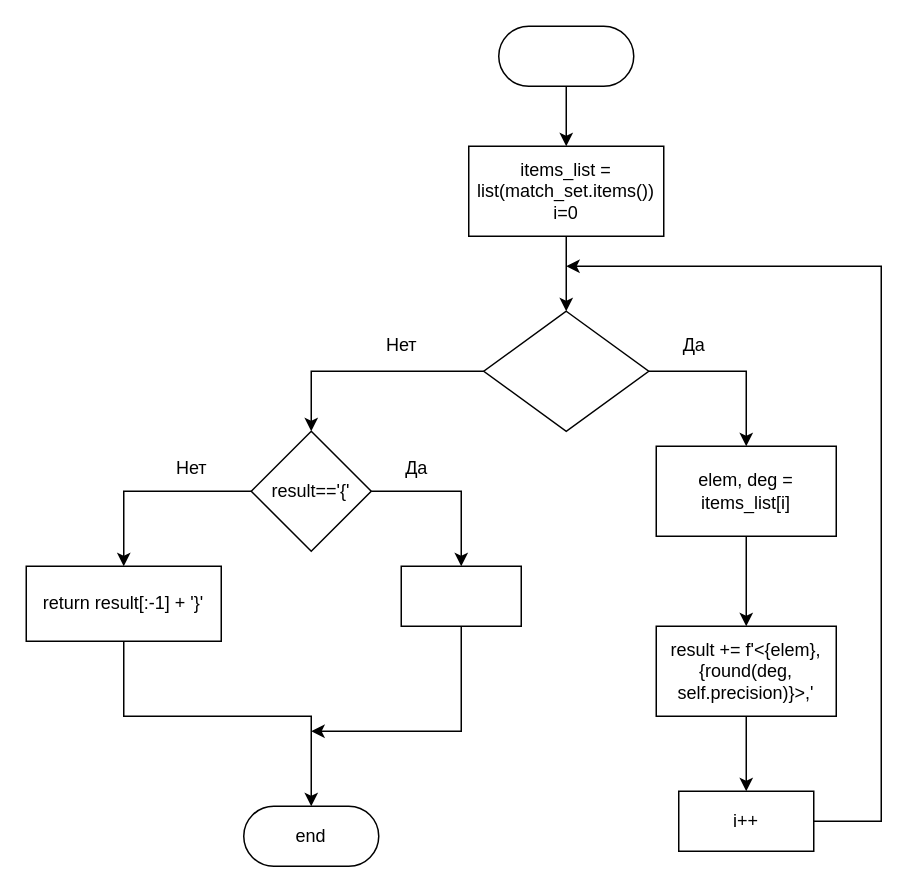
The diagram is 920 pixels wide and 893 high, and some of its shapes have lost their labels. The shapes that lost their labels are listed below. From the top down, each one's centre as x and y in pixels, then its label:
the point at 565,55: begin
the point at 565,370: i<len(items_list)
the point at 460,595: return '{'+'}'
